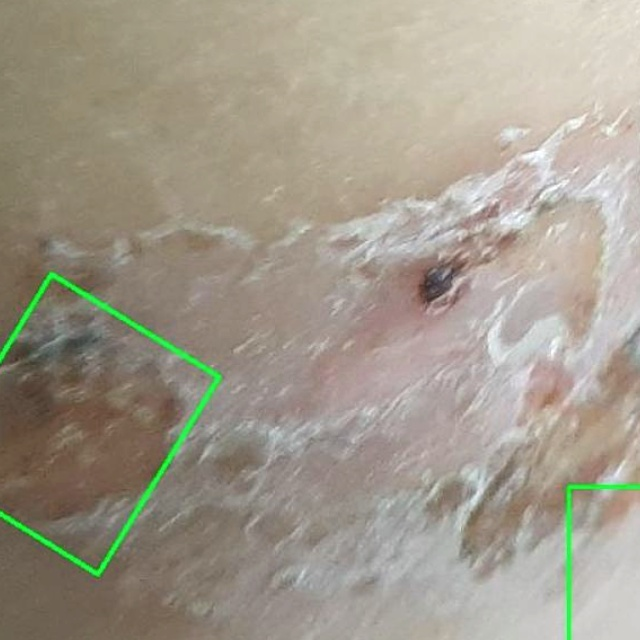Contact Dermatitis: (0, 275, 218, 574)
